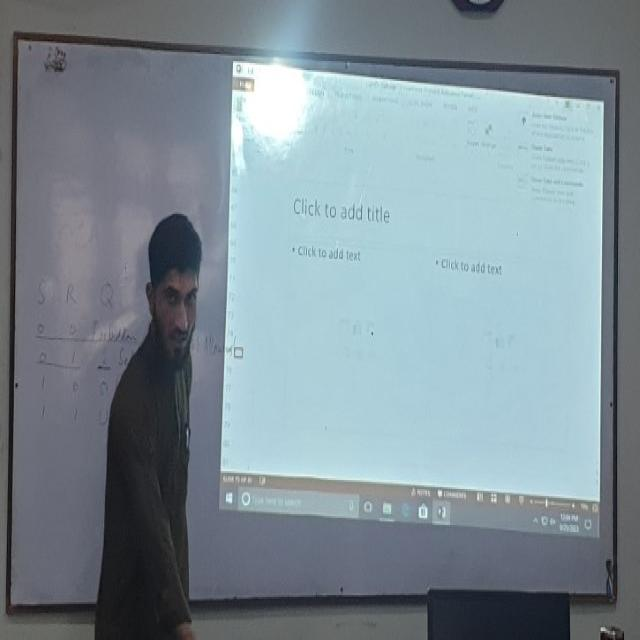Instructor: (107, 192, 208, 612)
Slide: (215, 60, 603, 544)
White-board: (10, 32, 619, 603)
